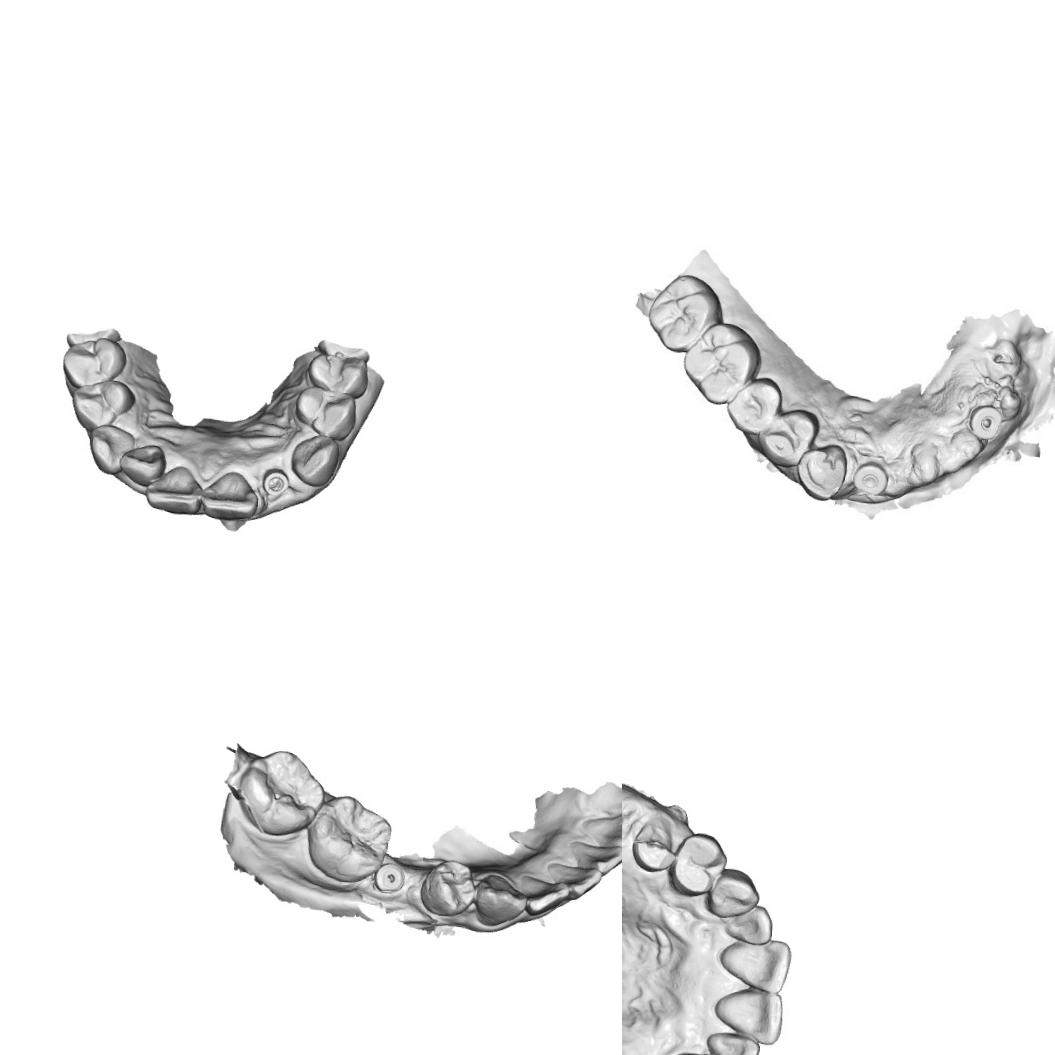canine: (468, 868, 530, 930), (704, 866, 762, 920), (288, 431, 341, 488), (796, 444, 846, 502), (86, 421, 136, 476), (667, 1040, 737, 1055)
implant: (970, 402, 1008, 453), (369, 859, 410, 902), (848, 456, 890, 494), (260, 465, 291, 498)
incisor: (710, 984, 786, 1048), (716, 932, 792, 995), (142, 463, 204, 516), (201, 467, 260, 522), (544, 856, 604, 903), (517, 870, 569, 921), (115, 440, 168, 488), (720, 902, 774, 946), (570, 838, 622, 879), (581, 806, 622, 850), (705, 1025, 761, 1055)
molar: (232, 744, 326, 840), (301, 793, 394, 887), (642, 270, 724, 354), (683, 328, 762, 405)
premolar: (413, 855, 479, 925), (667, 829, 729, 899), (291, 382, 358, 442), (66, 376, 134, 435), (754, 407, 816, 470), (59, 334, 125, 392), (727, 372, 784, 432), (304, 350, 370, 400), (628, 820, 677, 873)
